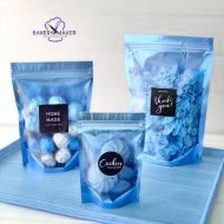snack: (115, 26, 217, 173), (5, 55, 98, 177), (71, 107, 150, 211)
